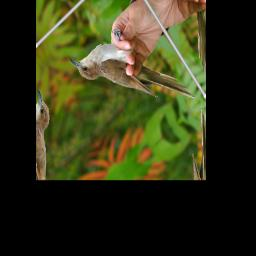Cuckoo: (68, 0, 196, 163)
